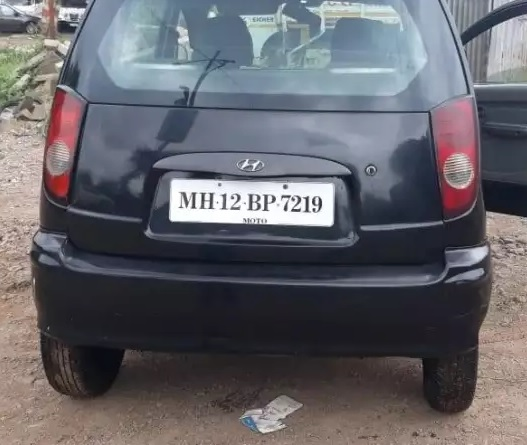licenseplate: (167, 174, 338, 230)
